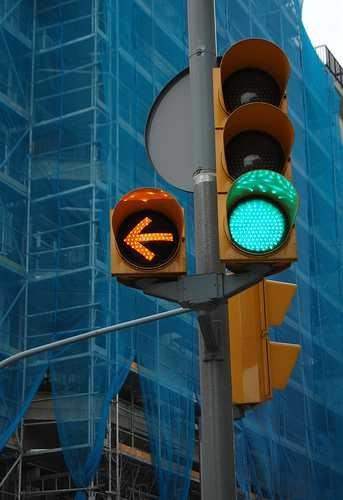green: (216, 43, 299, 258), (220, 186, 294, 249)
red: (107, 193, 184, 271)
